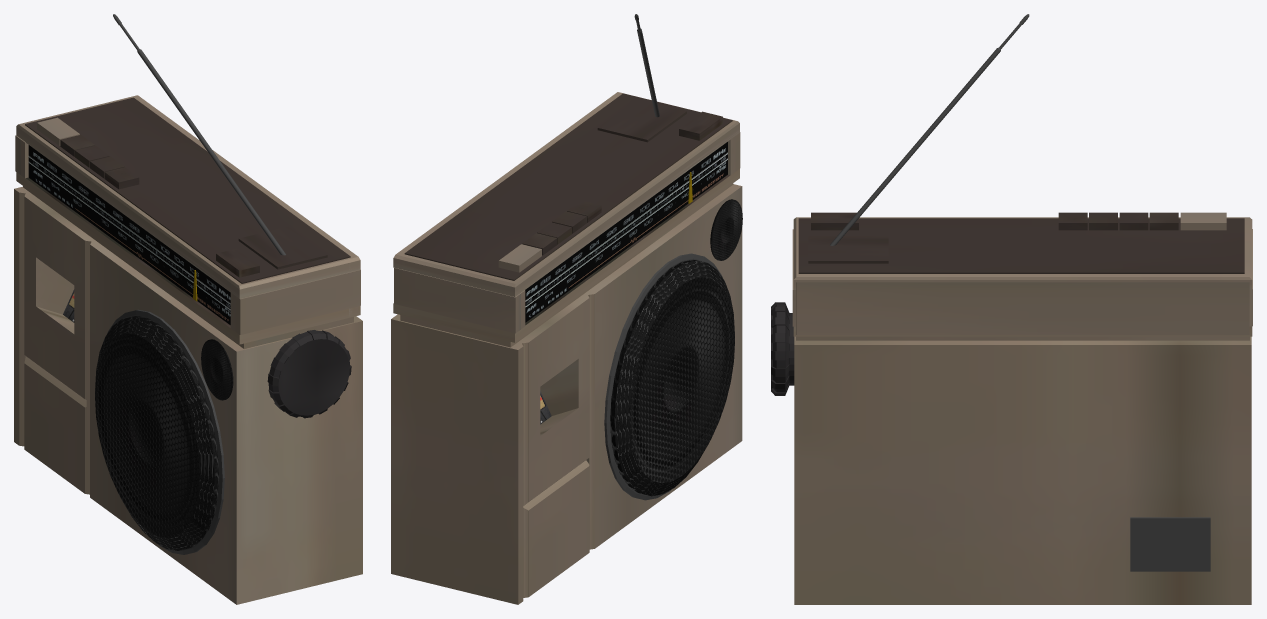
Rendered from Radio.fbx.
The picture shows the model from 3 angles, left to right: view 1: azimuth 30°, elevation 25°; view 2: azimuth 150°, elevation 25°; view 3: azimuth 270°, elevation 25°; orthographic projection. The views are drawn at different scales.
Parts seen in each view (by area): view 1: Cube, Cylinder, Cube.013, Cube.003, Cube.006, Cylinder.004, Cube.004, Cube.002, Cylinder.001, Cube.014, Cylinder.003, Cylinder.002 (+5 smaller); view 2: Cube, Cylinder, Cube.013, Cube.003, Cube.006, Cube.005, Cube.002, Cylinder.001, Cube.014, Cylinder.002, Cube.001, Cube.012 (+3 smaller); view 3: Cube, Cube.017, Cube.013, Cube.003, Cube.015, Cube.001, Cube.014, Cylinder.004, Cylinder.003, Cube.002, Cube.009, Cube.012.
Boxes of the visible parts, x1,y1,x2,y2 form: Cube: (14, 186, 362, 604); Cylinder: (95, 316, 218, 550); Cube.013: (25, 97, 350, 283); Cube.003: (16, 95, 360, 298); Cube.006: (28, 145, 230, 324); Cylinder.004: (267, 330, 351, 418); Cube.004: (230, 269, 360, 334); Cube.002: (16, 172, 360, 344); Cylinder.001: (107, 309, 224, 554); Cube.014: (238, 226, 327, 269); Cylinder.003: (113, 14, 285, 255); Cylinder.002: (201, 339, 233, 400); Cube: (391, 184, 742, 604); Cylinder: (610, 259, 734, 496); Cube.013: (404, 93, 732, 280); Cube.003: (393, 92, 739, 296); Cube.006: (525, 142, 727, 322); Cube.005: (394, 267, 525, 333); Cube.002: (393, 168, 739, 342); Cylinder.001: (604, 253, 722, 500); Cube.014: (597, 99, 686, 142); Cylinder.002: (710, 199, 742, 260); Cube.001: (400, 183, 733, 347); Cube.012: (679, 111, 722, 140); Cube: (794, 336, 1251, 604); Cube.017: (796, 282, 1250, 334); Cube.013: (798, 218, 1244, 273); Cube.003: (793, 217, 1252, 289); Cube.015: (1130, 517, 1210, 571); Cube.001: (796, 336, 1249, 340); Cube.014: (808, 236, 888, 263); Cylinder.004: (771, 302, 794, 395); Cylinder.003: (830, 14, 1029, 245); Cube.002: (793, 326, 1252, 336); Cube.009: (1180, 212, 1226, 230); Cube.012: (811, 212, 858, 230).
Size of the model in its own units: 118 by 402 by 336.
